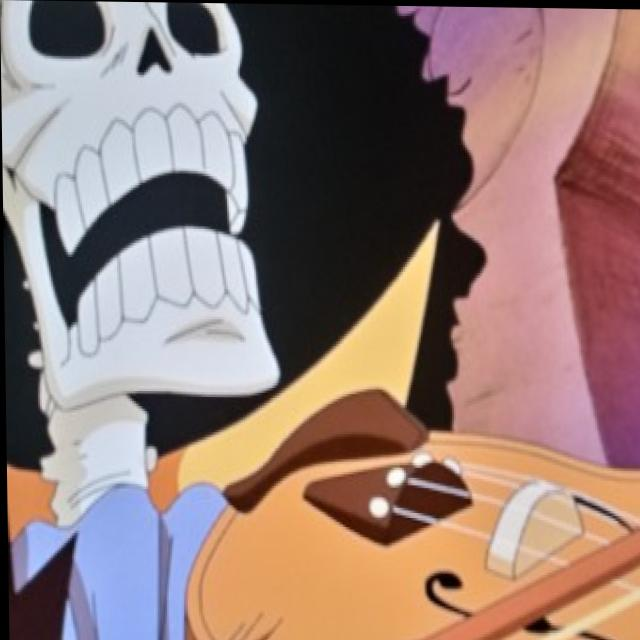Blook: (0, 0, 396, 462)
